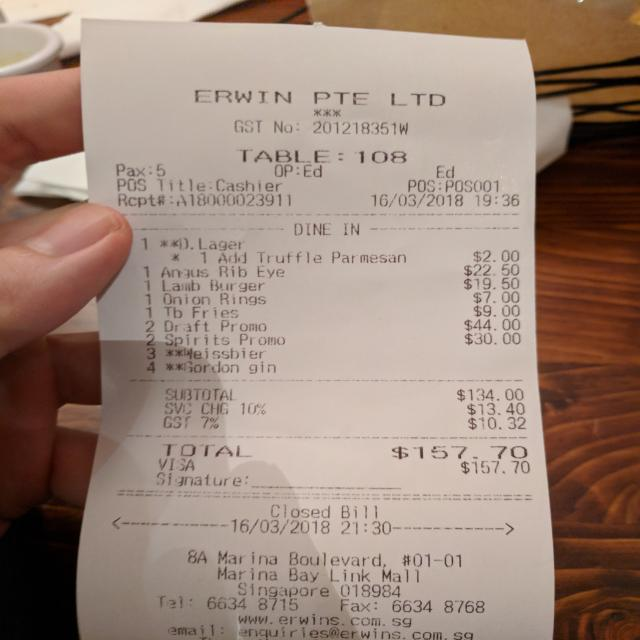bill_region: (124, 227, 536, 466)
